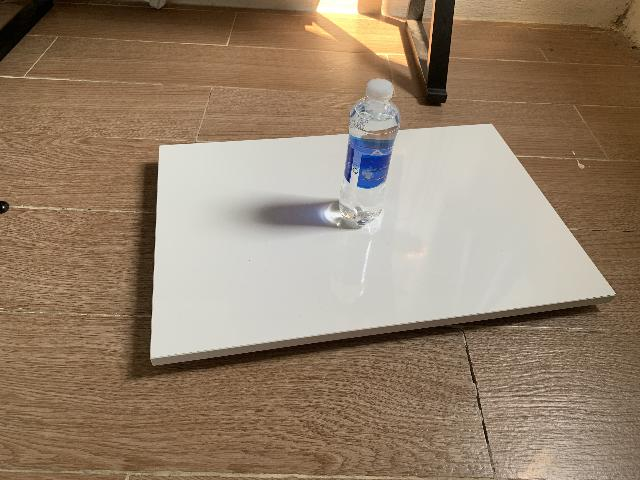aquafina: (339, 78, 401, 229)
